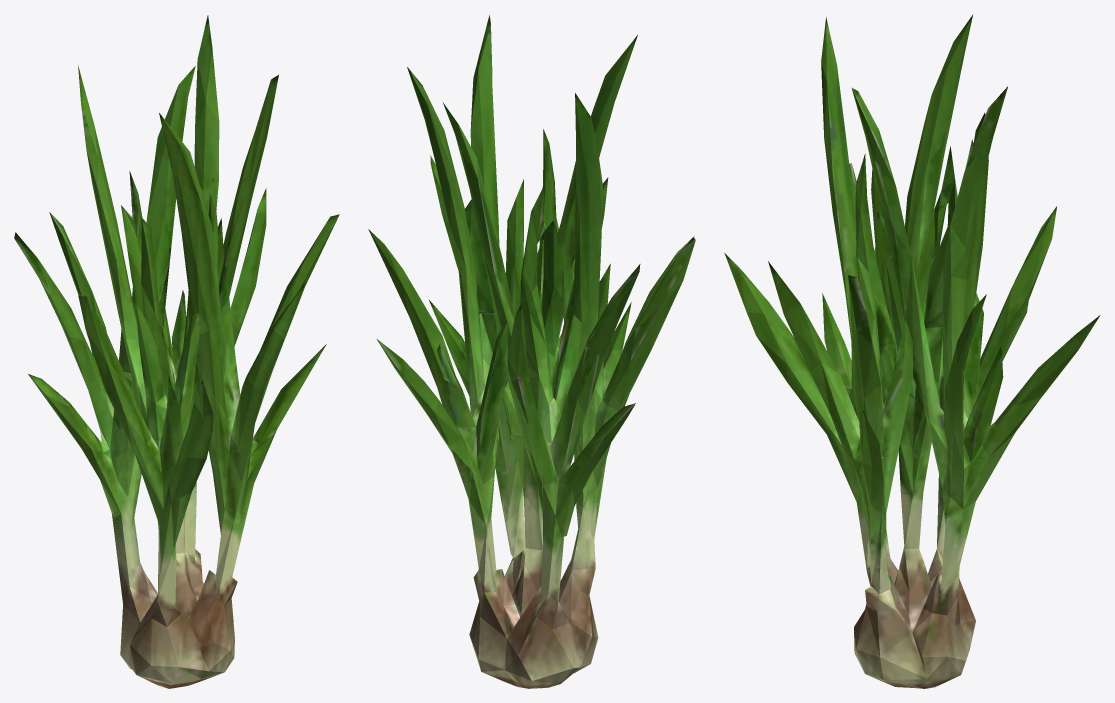
The model's file is P_Jiucai_02.obj.
3 views of the same model, side by side, from view 1: azimuth 30°, elevation 25°; view 2: azimuth 150°, elevation 25°; view 3: azimuth 270°, elevation 25° (orthographic). The views are drawn at different scales.
Bounding box in the file's own units: 0.465 × 1.03 × 0.5546.
1 material, 1 textured.
